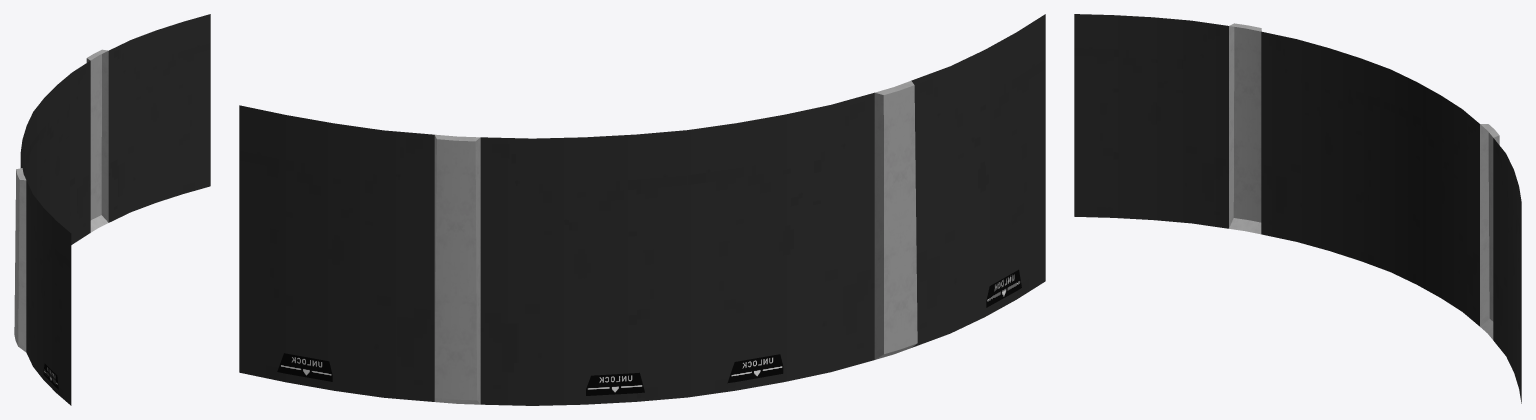
File: TopAstra_Curve_Round_Outer.glb
The picture shows the model from 3 angles, left to right: view 1: azimuth 30°, elevation 25°; view 2: azimuth 150°, elevation 25°; view 3: azimuth 270°, elevation 25°; orthographic projection. The views are drawn at different scales.
Visible parts, largest first — view 1: TopAstra_Curve_Round_Outer; view 2: TopAstra_Curve_Round_Outer; view 3: TopAstra_Curve_Round_Outer.
Boxes of the visible parts, x1,y1,x2,y2 form: TopAstra_Curve_Round_Outer: [14, 14, 210, 405]; TopAstra_Curve_Round_Outer: [239, 14, 1045, 405]; TopAstra_Curve_Round_Outer: [1074, 14, 1521, 403].
Size of the model in its own units: 4 by 2 by 4.
Materials: 3 (3 with a texture image).
